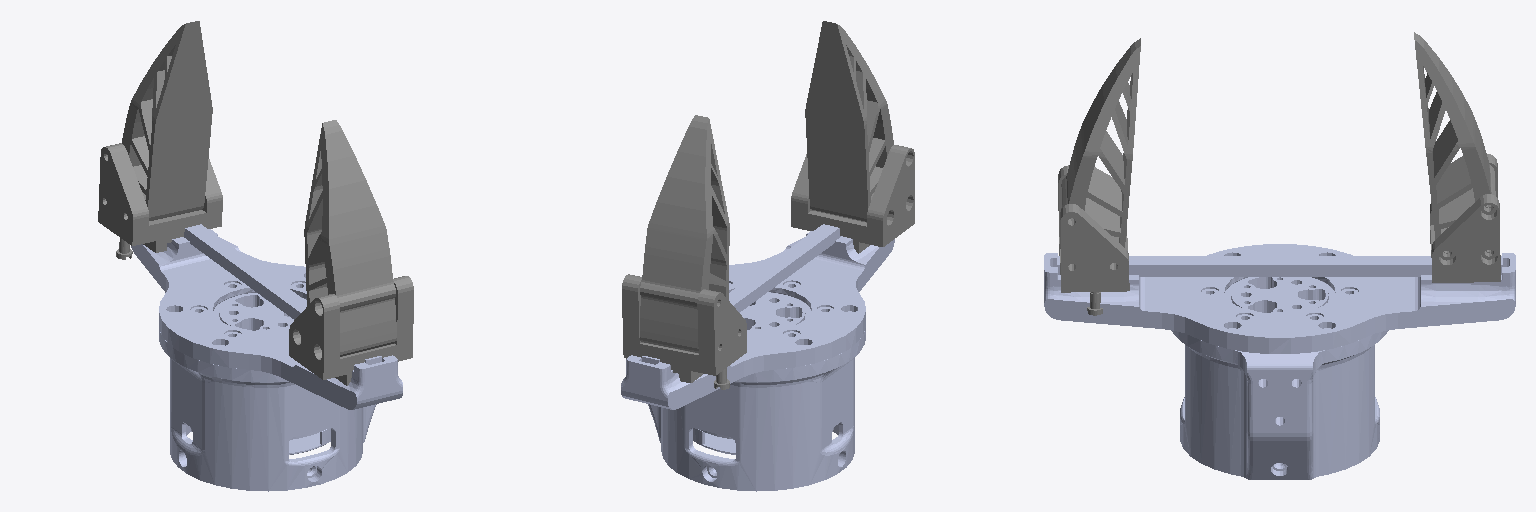
robot.urdf — marvin_straight_gripper:
<?xml version="1.0"?>
<robot name="marvin_straight_gripper">
  <link name="flange">
    <inertial>
      <origin xyz="0 0 0" rpy="0 0 0" />
      <mass value="0" />
      <inertia ixx="0" ixy="0" ixz="0" iyy="0" iyz="0" izz="0" />
    </inertial>
  </link>

  <link name="gripper_mount">
    <inertial>
      <origin xyz="0 0 0" rpy="0 0 0" />
      <mass value="0" />
      <inertia ixx="0" ixy="0" ixz="0" iyy="0" iyz="0" izz="0" />
    </inertial>
  </link>

  <link name="gripper_base">
    <visual>
      <origin xyz="0 0 0" rpy="0 0 0" />
      <geometry>
        <mesh filename="meshes/omnigripper_straight.STL" />
      </geometry>
      <material name="gripper_base_mat">
        <color rgba="0.79216078 0.81961176 0.92941569 1.00000000" />
      </material>
    </visual>
    <collision name="gripper_base_geom_1">
      <origin xyz="0 0 0" rpy="0 0 0" />
      <geometry>
        <mesh filename="meshes/omnigripper_straight.STL" />
      </geometry>
    </collision>
    <inertial>
      <origin xyz="-0.000142 0.005641 0.0488811" rpy="0 0 0" />
      <mass value="0.4064271" />
      <inertia ixx="0.0002976" ixy="-0.0000024" ixz="0.0000011" iyy="0.0004831" iyz="-0.0000721" izz="0.0004721" />
    </inertial>
  </link>

  <link name="left_finger">
    <visual>
      <origin xyz="0 0 0" rpy="0 0 0" />
      <geometry>
        <mesh filename="meshes/Left_Chipper_Base.STL" />
      </geometry>
      <material name="gripper_finger_mat">
        <color rgba="0.60392549 0.60392549 0.60392549 1.00000000" />
      </material>
    </visual>
    <collision name="left_finger_geom_1">
      <origin xyz="0 0 0" rpy="0 0 0" />
      <geometry>
        <mesh filename="meshes/Left_Chipper_Base.STL" />
      </geometry>
    </collision>
    <inertial>
      <origin xyz="-0.0166753 -0.0028108 0.0127051" rpy="0 0 0" />
      <mass value="0.031395" />
      <inertia ixx="0.0000116" ixy="-0.0000013" ixz="0" iyy="0.0000048" iyz="0" izz="0.0000102" />
    </inertial>
  </link>

  <link name="right_finger">
    <visual>
      <origin xyz="0 0 0" rpy="0 0 0" />
      <geometry>
        <mesh filename="meshes/Right_Chipper_Base.STL" />
      </geometry>
      <material name="gripper_finger_mat">
        <color rgba="0.60392549 0.60392549 0.60392549 1.00000000" />
      </material>
    </visual>
    <collision name="right_finger_geom_1">
      <origin xyz="0 0 0" rpy="0 0 0" />
      <geometry>
        <mesh filename="meshes/Right_Chipper_Base.STL" />
      </geometry>
    </collision>
    <inertial>
      <origin xyz="0.0089293 -0.0028108 0.0127051" rpy="0 0 0" />
      <mass value="0.031395" />
      <inertia ixx="0.0000116" ixy="-0.0000013" ixz="0" iyy="0.0000048" iyz="0" izz="0.0000102" />
    </inertial>
  </link>

  <link name="tool0">
    <inertial>
      <origin xyz="0 0 0" rpy="0 0 0" />
      <mass value="0" />
      <inertia ixx="0" ixy="0" ixz="0" iyy="0" iyz="0" izz="0" />
    </inertial>
  </link>

  <joint name="flange_to_gripper_mount" type="fixed">
    <parent link="flange" />
    <child link="gripper_mount" />
    <origin xyz="0 0 0" rpy="0 0 -1.5707963" />
  </joint>

  <joint name="gripper_mount_to_gripper_base" type="fixed">
    <parent link="gripper_mount" />
    <child link="gripper_base" />
    <origin xyz="0 0 0" rpy="0 0 0" />
  </joint>

  <joint name="left_finger_joint" type="prismatic">
    <parent link="gripper_base" />
    <child link="left_finger" />
    <origin xyz="0.105 -0.01 0.0916374" rpy="1.5777046 -0.0094492 -3.1190022" />
    <axis xyz="1 0 0" />
    <limit lower="0" upper="0.05" effort="30" velocity="0" />
    <dynamics damping="8" friction="0.2" />
  </joint>

  <joint name="right_finger_joint" type="prismatic">
    <parent link="gripper_base" />
    <child link="right_finger" />
    <origin xyz="-0.05 -0.002 0.1105" rpy="1.5372318 0.0098779 0.0227581" />
    <axis xyz="1 0 0" />
    <limit lower="0" upper="0.05" effort="0" velocity="0" />
    <dynamics damping="8" friction="0.2" />
    <mimic joint="left_finger_joint" multiplier="1" offset="0" />
  </joint>

  <joint name="gripper_base_to_tool0" type="fixed">
    <parent link="gripper_base" />
    <child link="tool0" />
    <origin xyz="0 0 0" rpy="0 -1.5707963 -1.5707963" />
  </joint>
</robot>

--- What the picture shows (computed from the rendered views, not written in the file) ---
Views: 3 orthographic renders of the robot side by side, from view 1: azimuth 30°, elevation 25°; view 2: azimuth 150°, elevation 25°; view 3: azimuth 270°, elevation 25°.
Robot: marvin_straight_gripper — 6 links, 5 joints (2 prismatic, 3 fixed); root link flange; default pose: all joints at 0.
Links seen in each view (by area): view 1: gripper_base, left_finger, right_finger; view 2: gripper_base, right_finger, left_finger; view 3: gripper_base, left_finger, right_finger.
Link boxes in pixels (left/top/right/bottom): gripper_base: left=131, top=224, right=402, bottom=491; left_finger: left=289, top=120, right=413, bottom=385; right_finger: left=98, top=21, right=222, bottom=259; gripper_base: left=621, top=224, right=894, bottom=491; right_finger: left=622, top=115, right=746, bottom=389; left_finger: left=791, top=21, right=914, bottom=253; gripper_base: left=1044, top=244, right=1515, bottom=479; left_finger: left=1058, top=38, right=1140, bottom=315; right_finger: left=1414, top=32, right=1500, bottom=282.
Size in the robot's own frame: 0.0841 by 0.169 by 0.1573 metres.
3 mesh visuals loaded from 3 distinct referenced files (3 binary STL).
